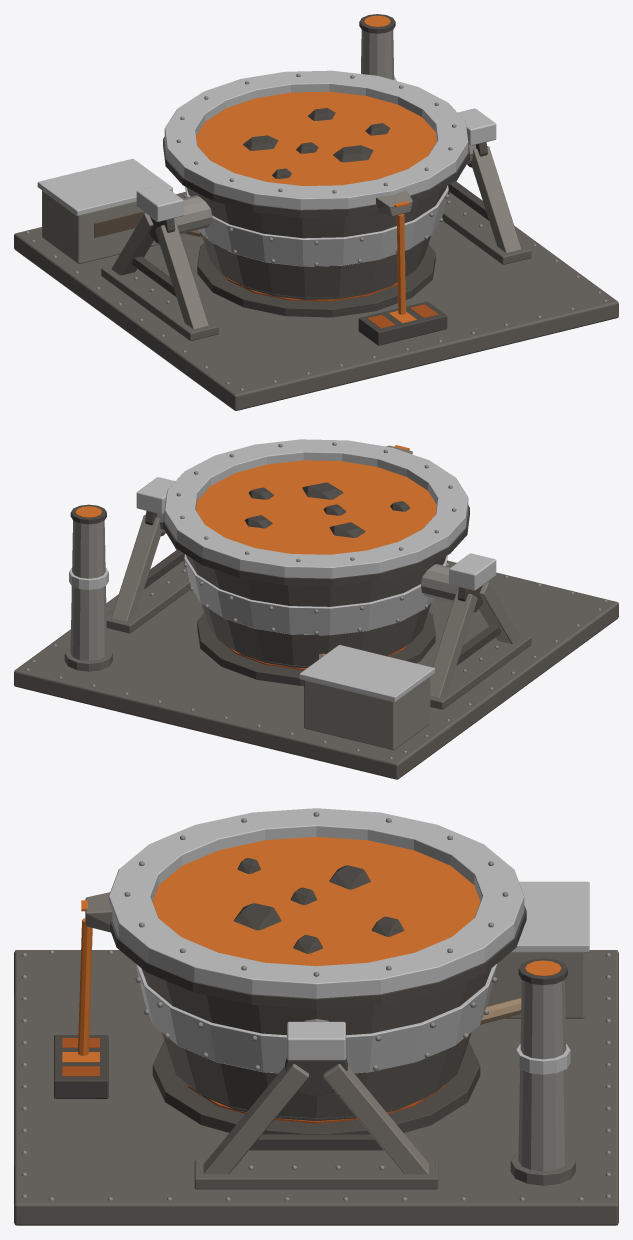
Rendered from crucible_metal_maker.glb.
3 views of the same model, one above another, from view 1: azimuth 30°, elevation 25°; view 2: azimuth 150°, elevation 25°; view 3: azimuth 270°, elevation 25° (orthographic). The views are drawn at different scales.
Visible parts, largest first — view 1: Body; view 2: Body; view 3: Body.
Part boxes in pixels (<box>): Body: <box>14,14,618,410</box>; Body: <box>14,439,618,779</box>; Body: <box>14,808,618,1225</box>.
Bounding box in the file's own units: 14.4 × 5.96 × 14.4.
